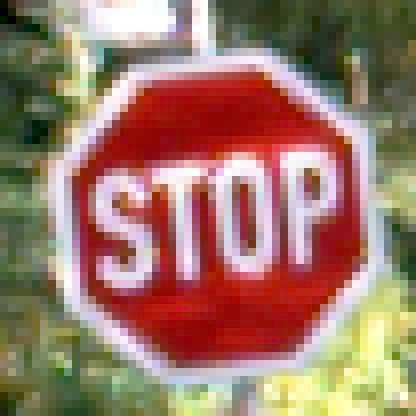Stop Sign: (64, 49, 380, 374)
